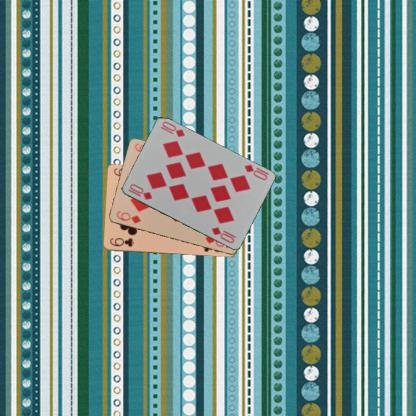10d: (125, 181, 153, 201), (242, 162, 268, 181)
6c: (107, 235, 135, 248)
6d: (113, 208, 142, 224)
